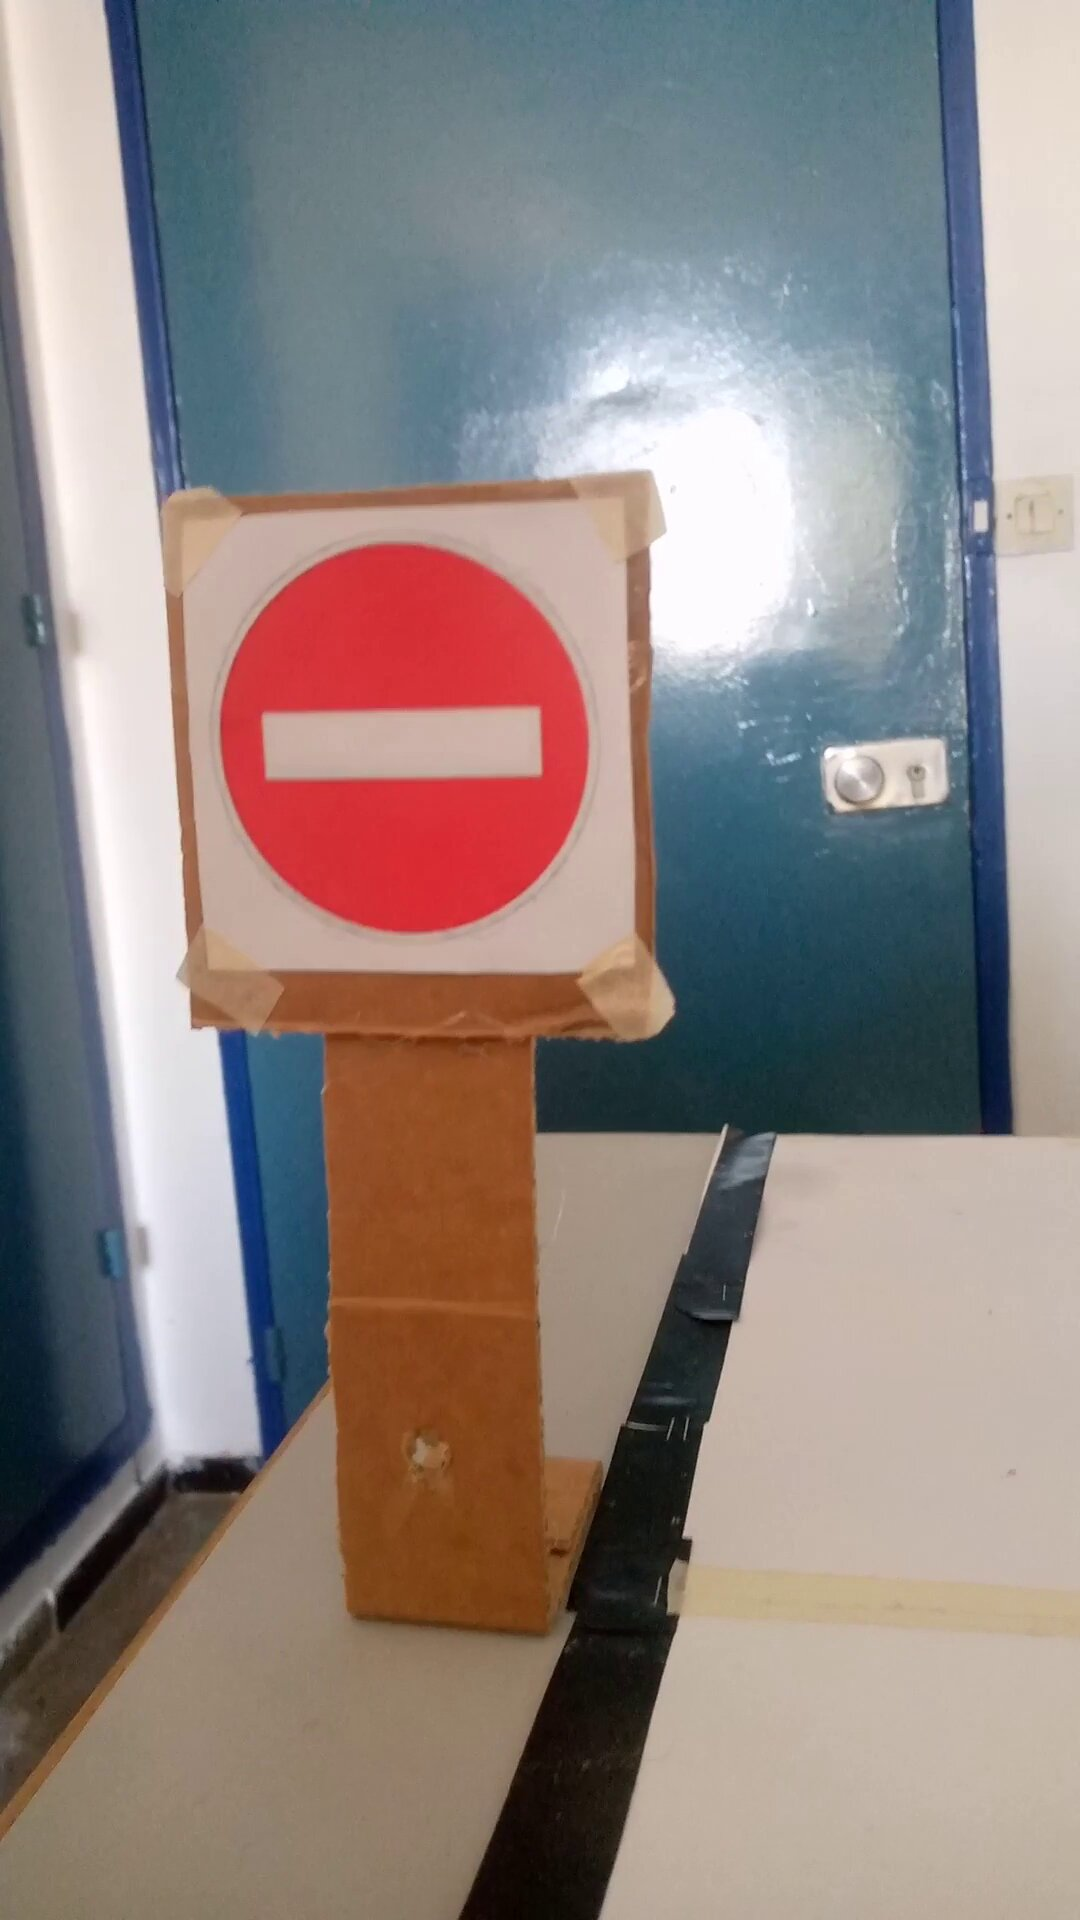panel010: (173, 517, 647, 1004)
